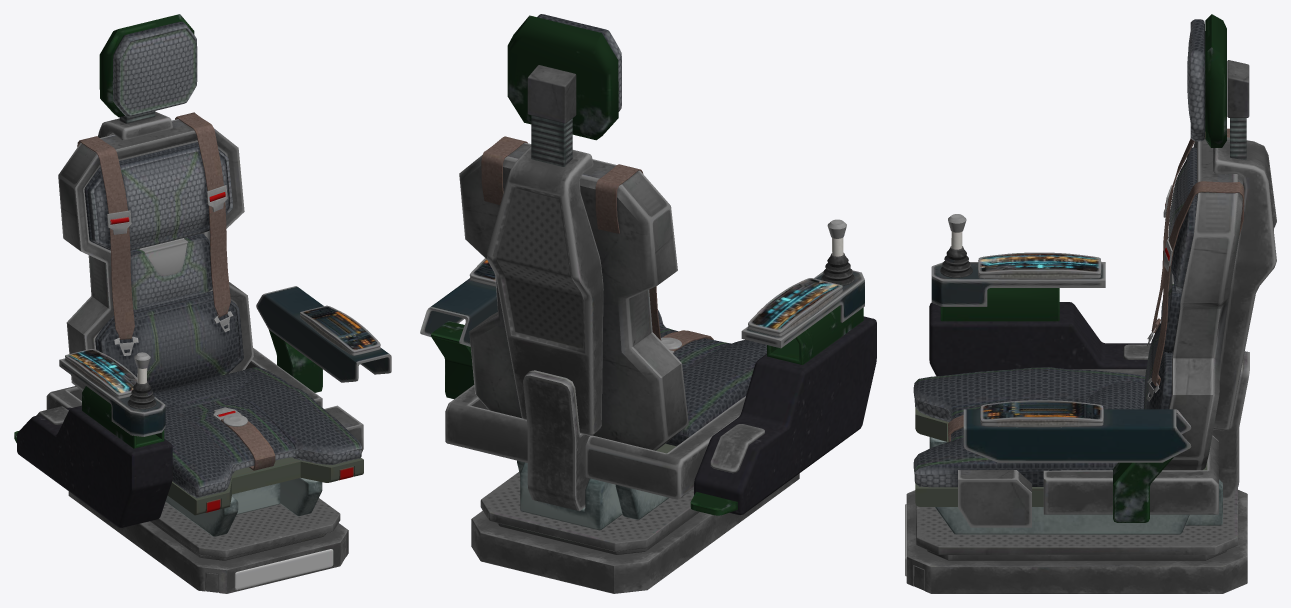
File: seat.glb
3 views of the same model, side by side, from view 1: azimuth 30°, elevation 25°; view 2: azimuth 150°, elevation 25°; view 3: azimuth 270°, elevation 25° (orthographic). The views are drawn at different scales.
Parts seen in each view (by area): view 1: XI_CMT_Cockpit_Seat.Shape; view 2: XI_CMT_Cockpit_Seat.Shape; view 3: XI_CMT_Cockpit_Seat.Shape.
Part boxes in pixels (x1,y1,x2,y2): XI_CMT_Cockpit_Seat.Shape: (14,14,391,593); XI_CMT_Cockpit_Seat.Shape: (420,14,876,593); XI_CMT_Cockpit_Seat.Shape: (905,14,1276,593).
Size of the model in its own units: 0.9203 by 1.47 by 0.9507.
Materials: 1 (1 with a texture image).
